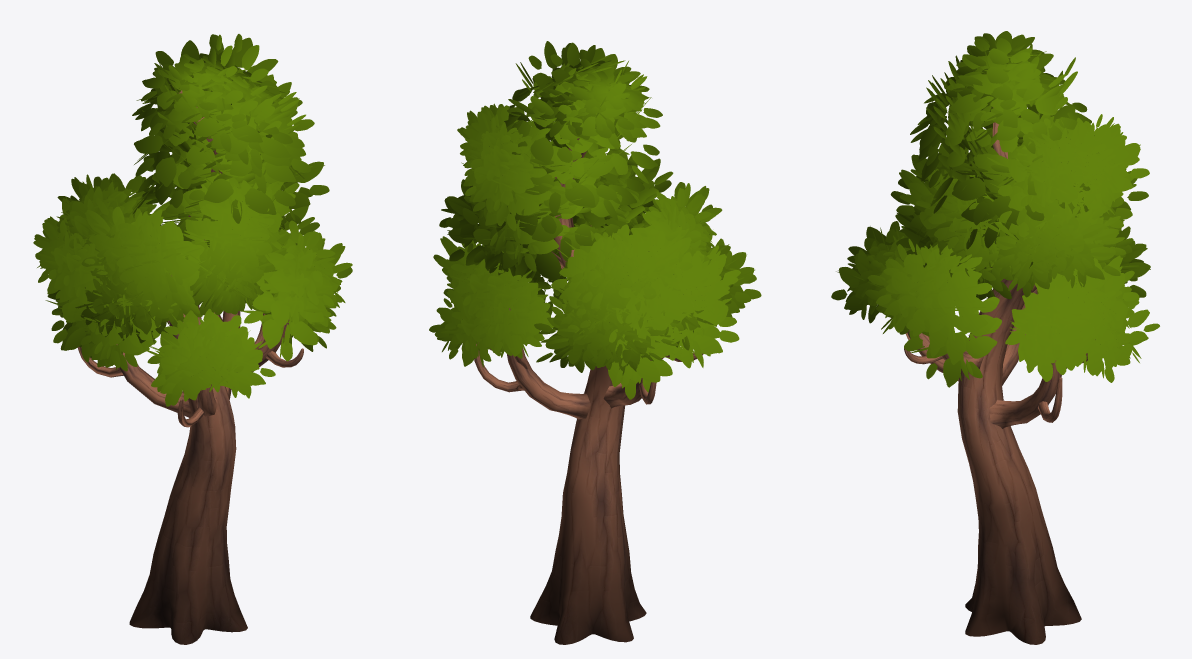
File: CommonTree_2.glb
3 views of the same model, side by side, from view 1: azimuth 30°, elevation 25°; view 2: azimuth 150°, elevation 25°; view 3: azimuth 270°, elevation 25° (orthographic). The views are drawn at different scales.
Parts seen in each view (by area): view 1: CommonTree_2; view 2: CommonTree_2; view 3: CommonTree_2.
Boxes of the visible parts, x1,y1,x2,y2 form: CommonTree_2: [33, 34, 352, 644]; CommonTree_2: [429, 41, 761, 644]; CommonTree_2: [831, 31, 1159, 644].
Size of the model in its own units: 4.46 by 7.64 by 4.28.
Materials: 2 (2 with a texture image).
